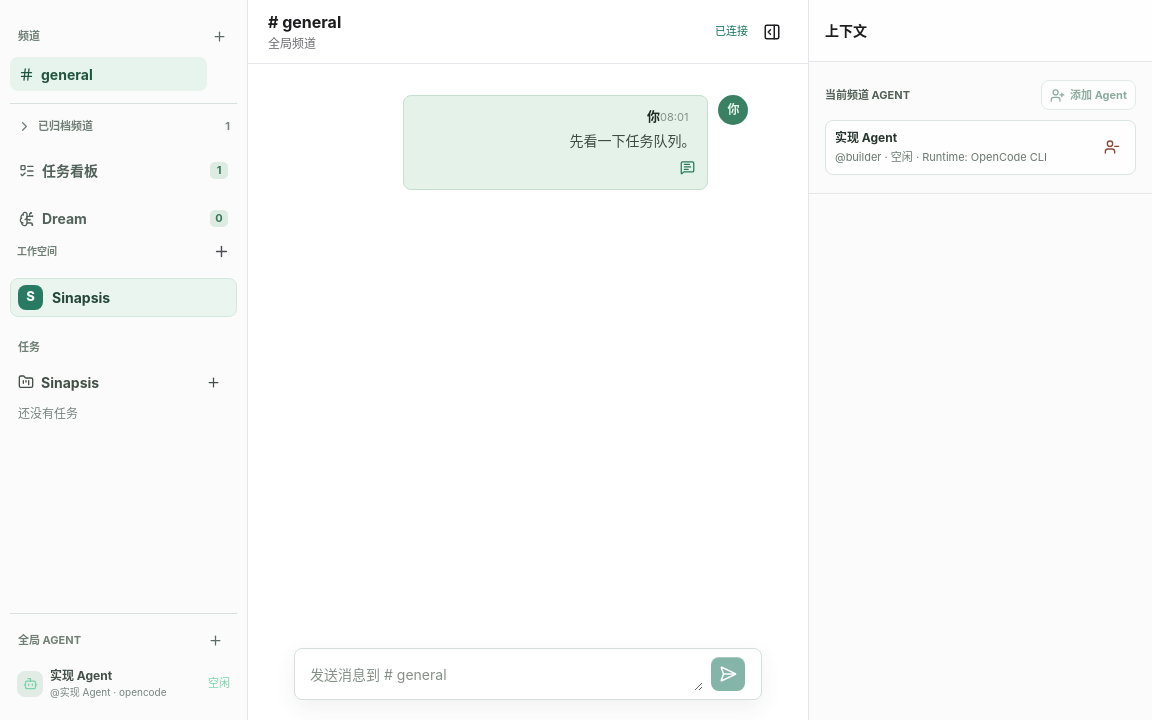
Test: WorkspaceShell › moves archived channels into a collapsible read-only folder
Check: the button with aria-label "# general" is shown, box [10,57,207,91]
Check: the button "# build" is not shown
Click the button with aria-label "已归档频道（1）" at (124, 126), box [10,113,237,140]
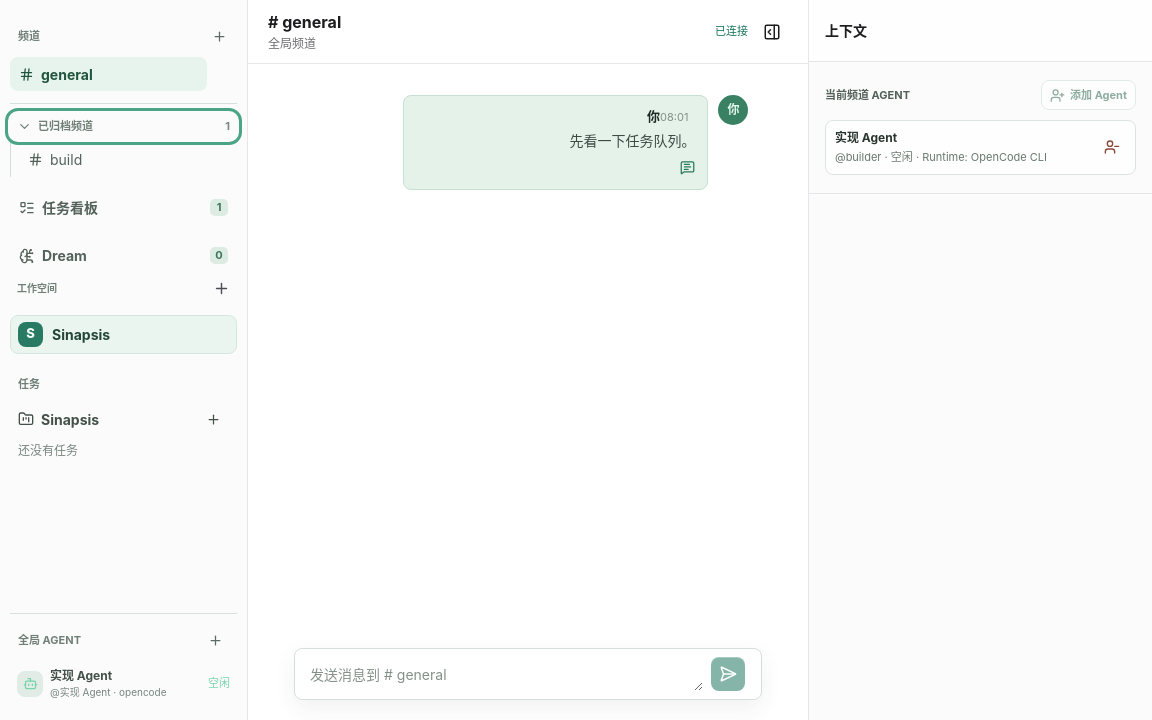
Click the button with aria-label "# build" at (113, 160), box [19,142,207,176]
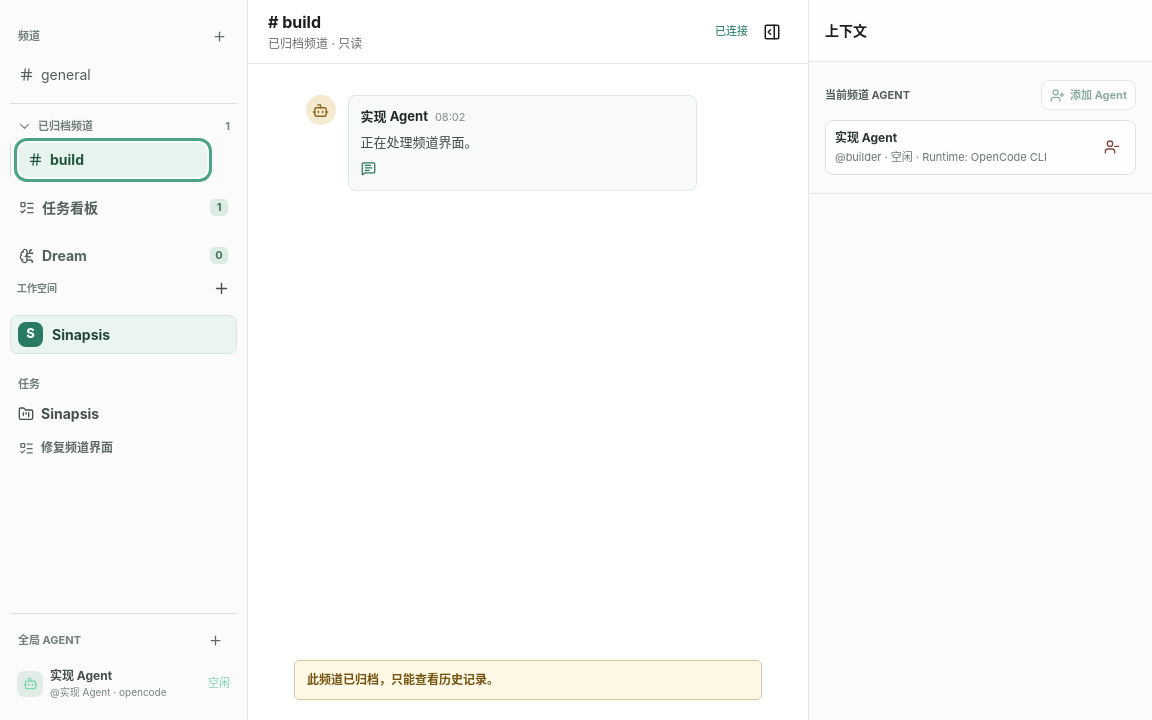
Check: the text "此频道已归档，只能查看历史记录。" is shown, box [294,660,762,700]
Check: the text box labelled "发送消息" is gone
